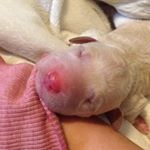puppy: (30, 19, 150, 133)
